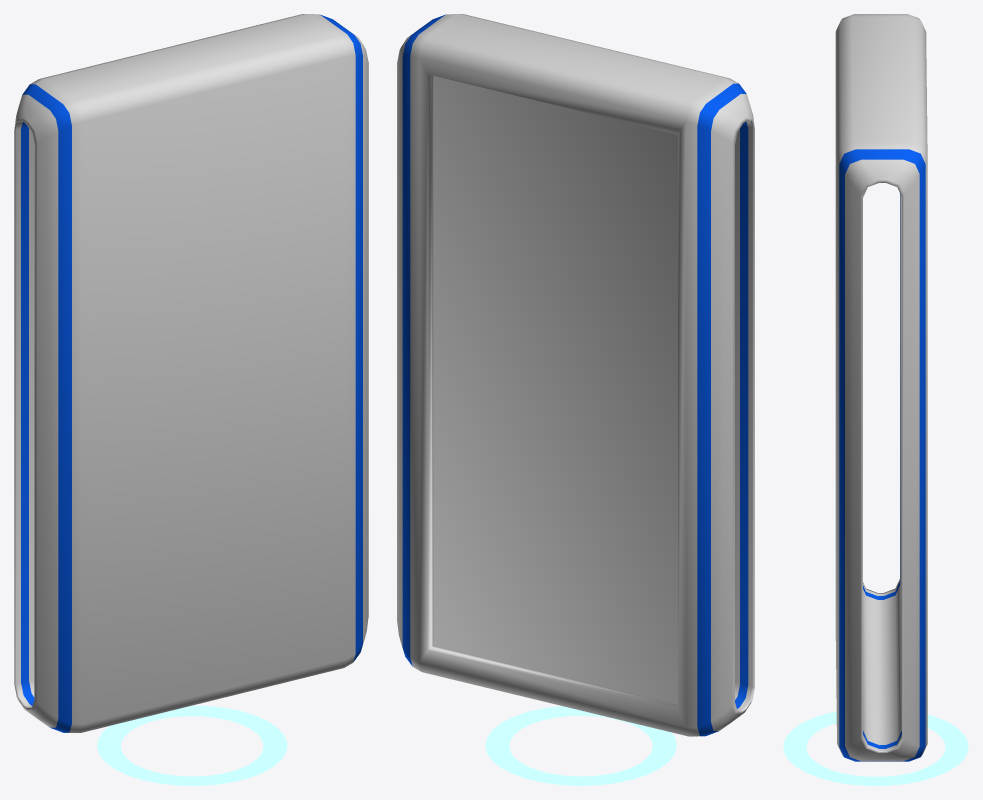
Rendered from Totem_Audit_Menor.fbx.
The picture shows the model from 3 angles, left to right: view 1: azimuth 30°, elevation 25°; view 2: azimuth 150°, elevation 25°; view 3: azimuth 270°, elevation 25°; orthographic projection. The views are drawn at different scales.
Visible parts, largest first — view 1: Totem_Audit_Menor; view 2: Totem_Audit_Menor; view 3: Totem_Audit_Menor.
Boxes of the visible parts, left/top/right/bottom form: Totem_Audit_Menor: left=14, top=14, right=368, bottom=785; Totem_Audit_Menor: left=397, top=14, right=754, bottom=785; Totem_Audit_Menor: left=783, top=14, right=968, bottom=785.
Size of the model in its own units: 1.89 by 3.69 by 0.9261.
